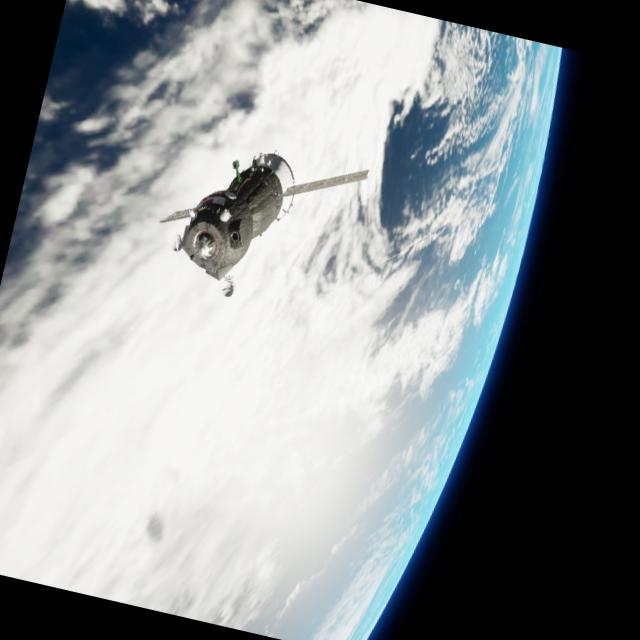Satellites revolving around earth: (0, 0, 570, 640), (144, 120, 372, 322)
